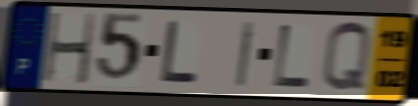5: (94, 12, 146, 89)
H: (41, 11, 98, 87)
I: (234, 19, 258, 89)
L: (271, 21, 313, 90), (159, 18, 201, 85)
Q: (320, 19, 374, 95)
